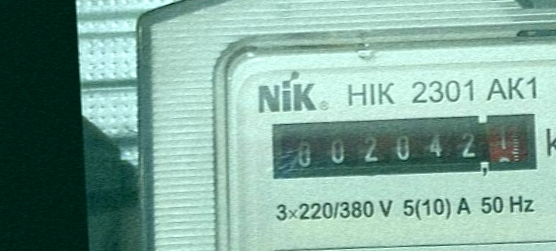0: (295, 135, 315, 166), (394, 129, 414, 160), (329, 133, 348, 165)
1: (496, 119, 511, 151)
2: (362, 132, 382, 162), (460, 127, 479, 157)
4: (427, 126, 447, 158)
screen: (267, 103, 545, 190)
